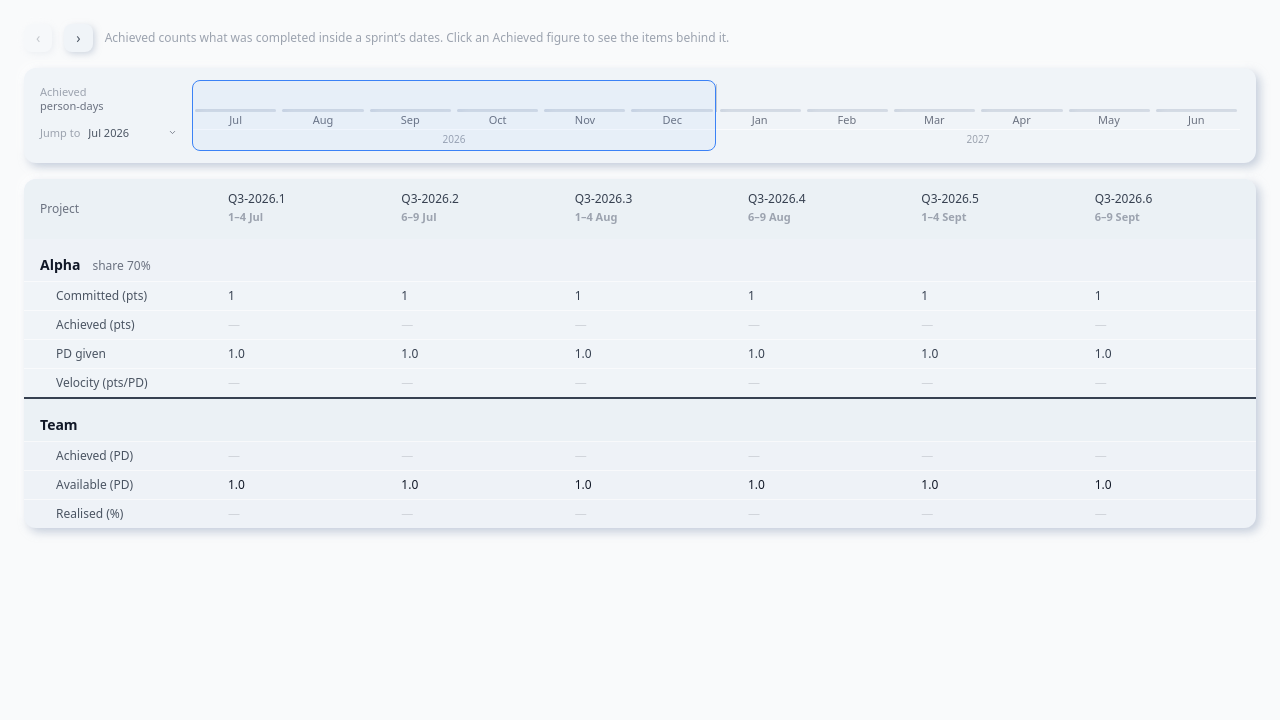
Test: AchievementView › pages through the sprint window six columns at a time
Expected: the column heading "Q3-2026.6 6–9 Sept" is shown, [1083,178,1256,238]
Expected: the column heading "Q3-2026.7" is not shown
Click the button named "Later sprints": coordinates (78, 38) [64,24,93,52]
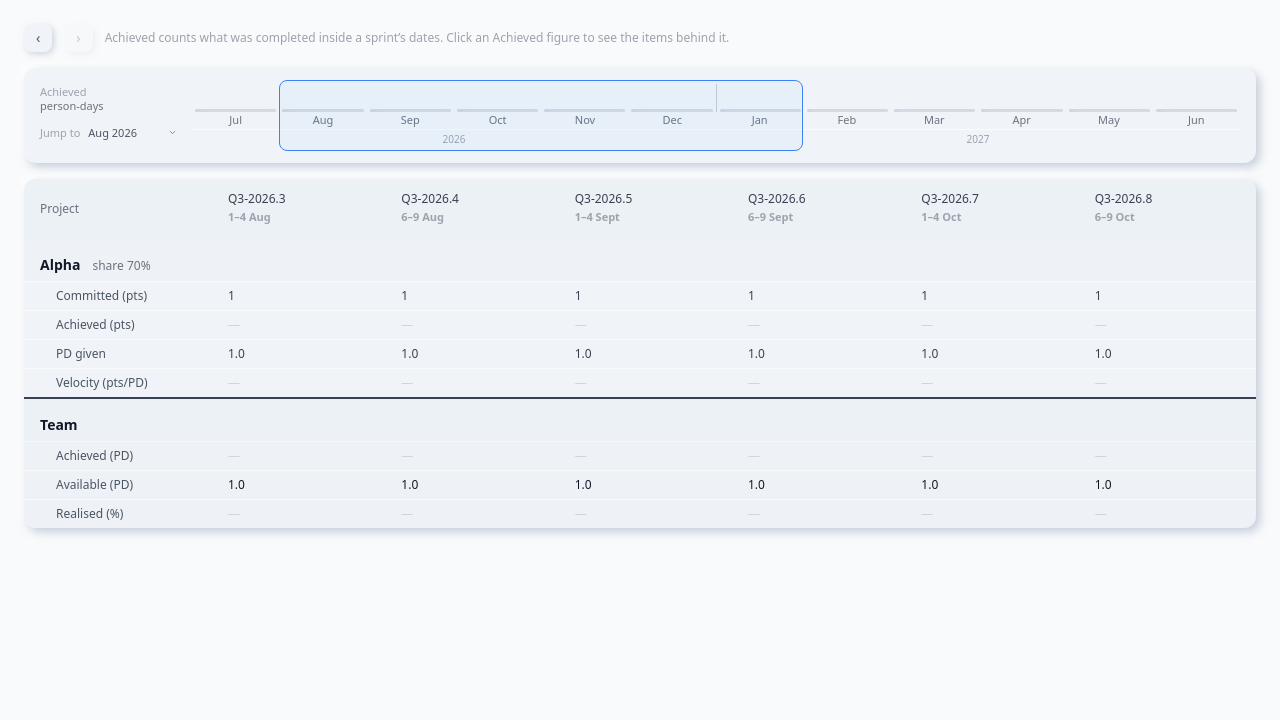
Now the column heading "Q3-2026.8 6–9 Oct" is shown, box [1083,178,1256,238]
Now the text "Q3-2026.1 " is gone
